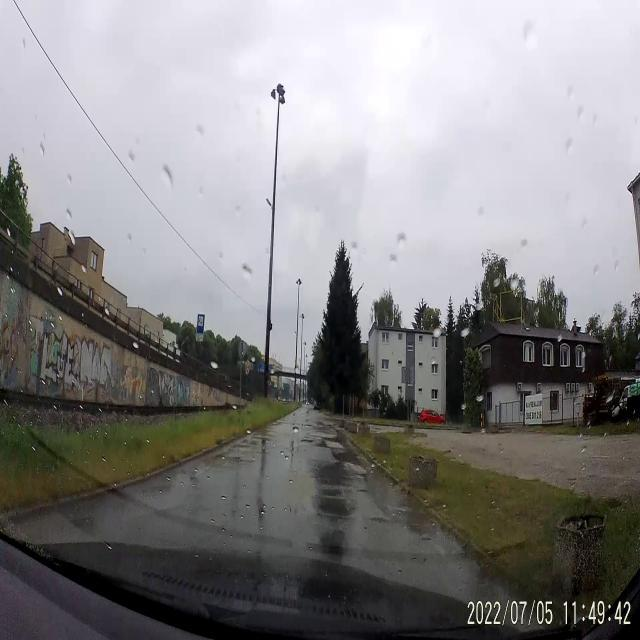Pothole: (135, 476, 188, 512)
